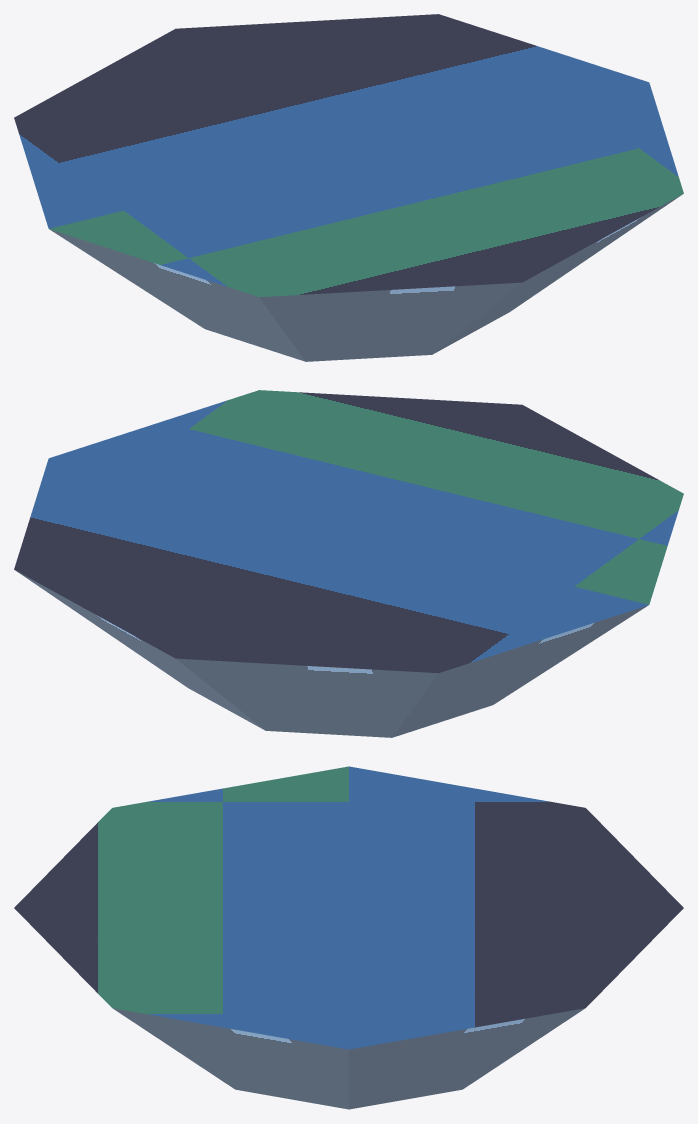
File: wprop.bucket__basin.glb
3 views of the same model, one above another, from view 1: azimuth 30°, elevation 25°; view 2: azimuth 150°, elevation 25°; view 3: azimuth 270°, elevation 25° (orthographic). The views are drawn at different scales.
Parts seen in each view (by area): view 1: kit_basin; view 2: kit_basin; view 3: kit_basin.
Part boxes in pixels (x1,y1,x2,y2): kit_basin: (14, 14, 683, 361); kit_basin: (14, 390, 683, 737); kit_basin: (14, 766, 683, 1109).
Size of the model in its own units: 0.5 by 0.11 by 0.5.
3 materials, 3 textured.
